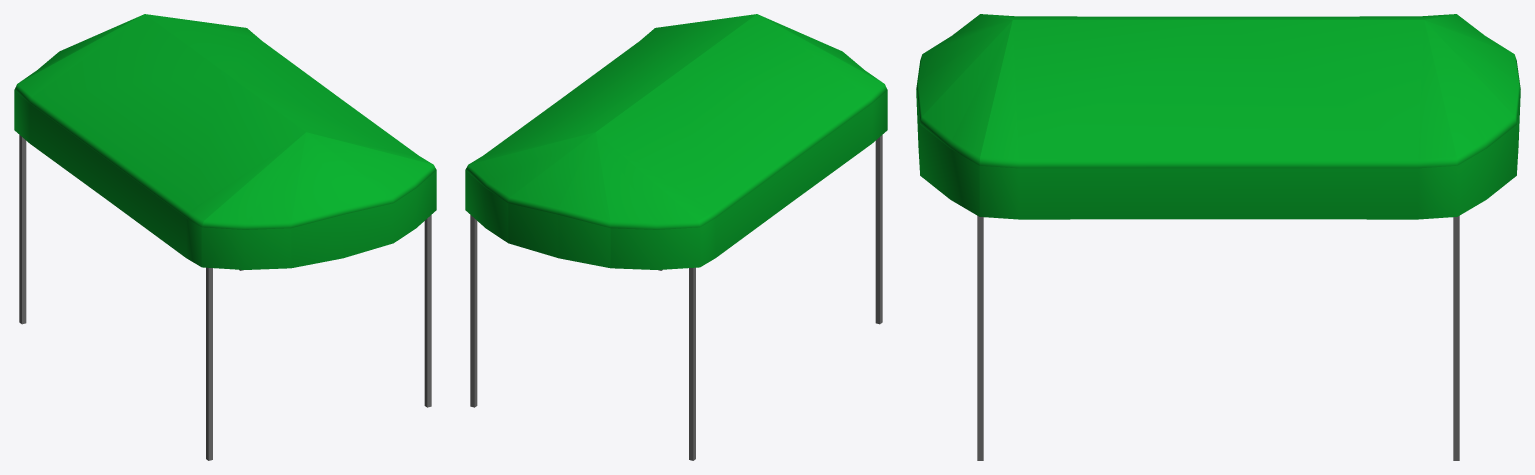
File: mdl_brush_tent.gltf
3 views of the same model, side by side, from view 1: azimuth 30°, elevation 25°; view 2: azimuth 150°, elevation 25°; view 3: azimuth 270°, elevation 25° (orthographic). The views are drawn at different scales.
Parts seen in each view (by area): view 1: Plane; view 2: Plane; view 3: Plane.
Part boxes in pixels (x1,y1,x2,y2): Plane: [14, 14, 436, 460]; Plane: [465, 14, 887, 460]; Plane: [916, 14, 1520, 460].
Size of the model in its own units: 1.61 by 1.91 by 2.81.
2 materials, 1 textured.
